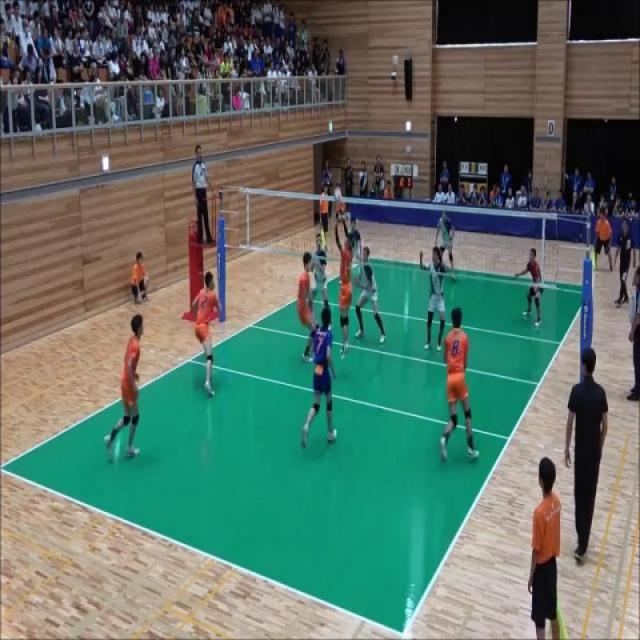volleyball: (334, 186, 342, 202)
